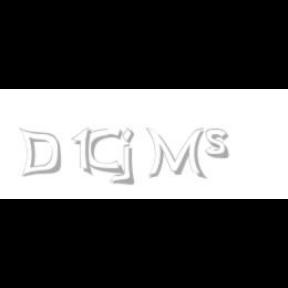1: (71, 128, 93, 176)
C: (86, 128, 122, 174)
D: (19, 128, 62, 178)
M: (145, 128, 204, 180)
j: (120, 128, 148, 186)
s: (205, 128, 233, 160)
